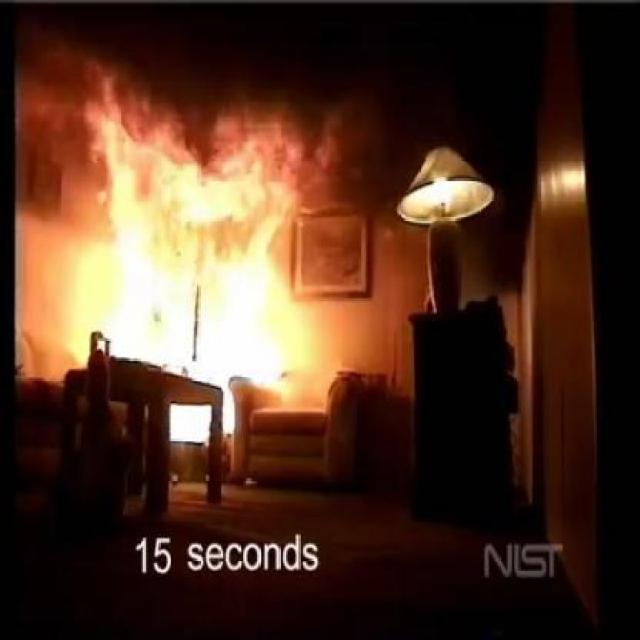Fire: (62, 27, 334, 458)
Smoke: (21, 4, 560, 154)
